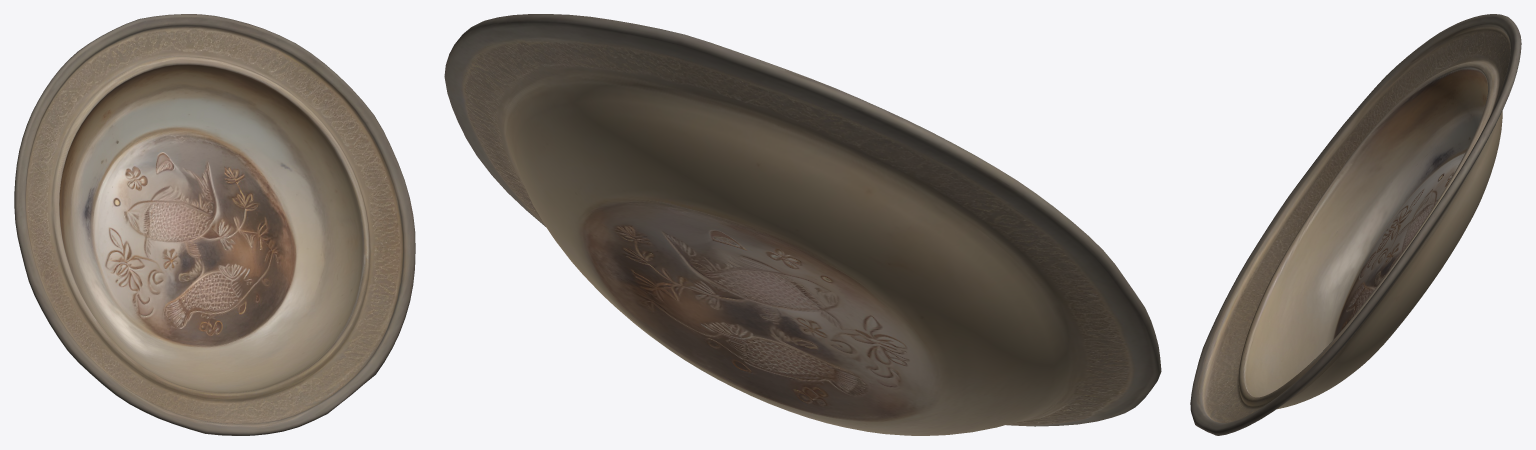
Rendered from 16-song-silver-plate.glb.
The picture shows the model from 3 angles, left to right: view 1: azimuth 30°, elevation 25°; view 2: azimuth 150°, elevation 25°; view 3: azimuth 270°, elevation 25°; orthographic projection. The views are drawn at different scales.
Visible parts, largest first — view 1: Retopo_node_0; view 2: Retopo_node_0; view 3: Retopo_node_0.
Part boxes in pixels (x1=…): Retopo_node_0: x1=14, y1=14, x2=415, y2=435; Retopo_node_0: x1=444, y1=14, x2=1161, y2=435; Retopo_node_0: x1=1190, y1=14, x2=1521, y2=435.
Size of the model in its own units: 118 by 92.96 by 76.58.
1 material, 1 textured.
